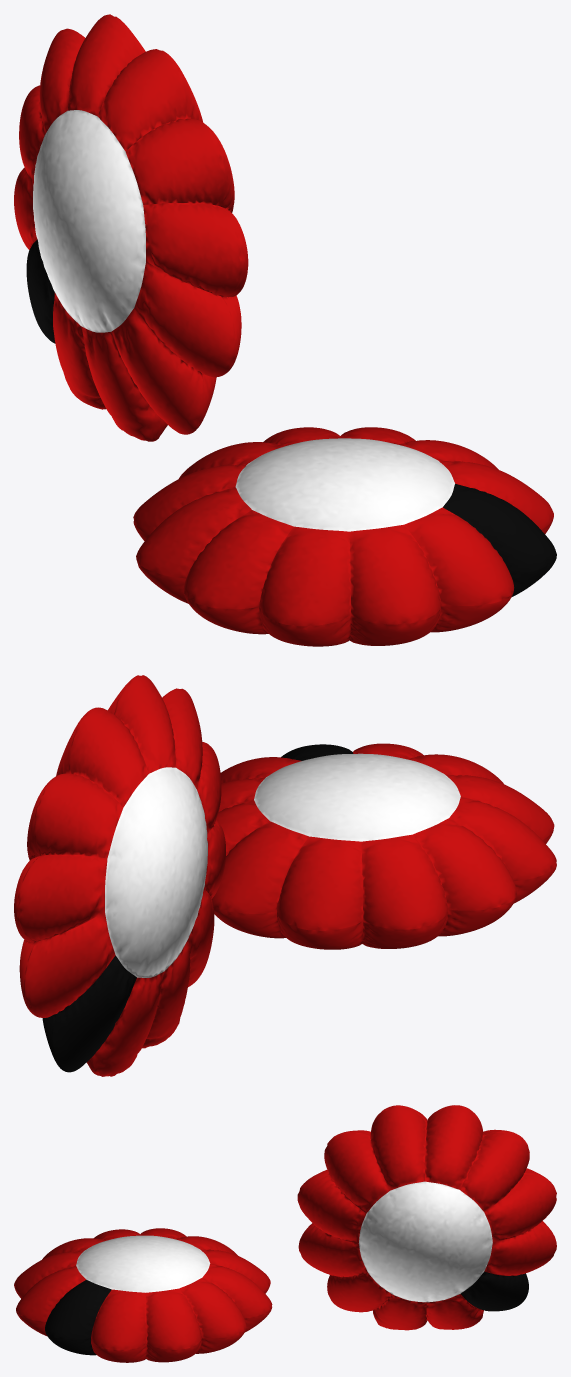
Rendered from flower pillow.FBX.
3 renders of one model, top to bottom at view 1: azimuth 30°, elevation 25°; view 2: azimuth 150°, elevation 25°; view 3: azimuth 270°, elevation 25°, orthographic. The views are drawn at different scales.
Parts seen in each view (by area): view 1: default001999, default016; view 2: default001999, default016; view 3: default001999, default016.
Boxes of the visible parts, bbox=[...] form: default001999: bbox=[14, 14, 248, 441]; default016: bbox=[133, 427, 556, 646]; default001999: bbox=[14, 675, 225, 1076]; default016: bbox=[212, 743, 556, 949]; default001999: bbox=[297, 1105, 556, 1330]; default016: bbox=[14, 1228, 272, 1362].
Size of the model in its own units: 40.81 by 39.58 by 85.64.
